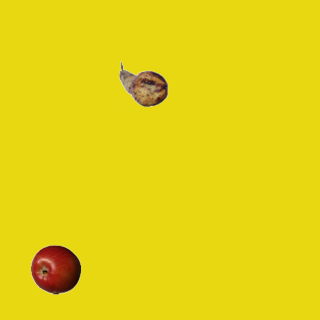Apple Braeburn: (30, 244, 80, 294)
Pear Abate: (118, 59, 168, 109)
